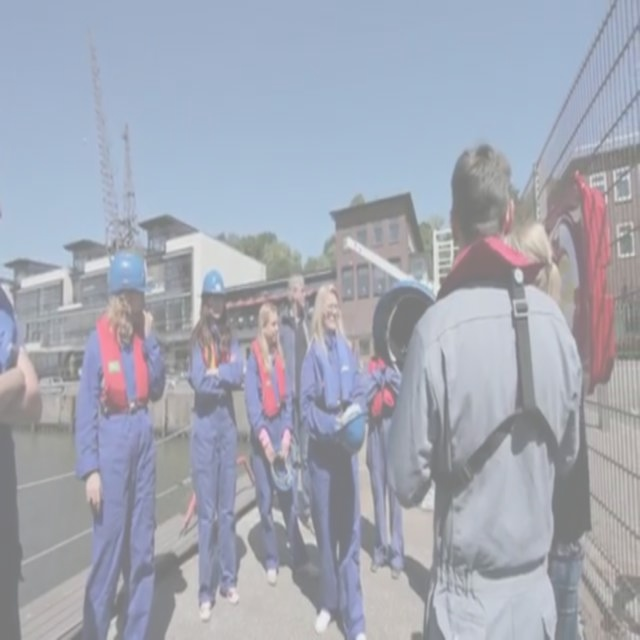pessoa: (368, 138, 587, 640), (498, 214, 594, 639), (70, 239, 168, 639), (296, 276, 370, 640), (184, 266, 248, 626), (244, 301, 322, 587), (0, 202, 44, 640), (360, 298, 408, 582), (277, 272, 316, 538)
